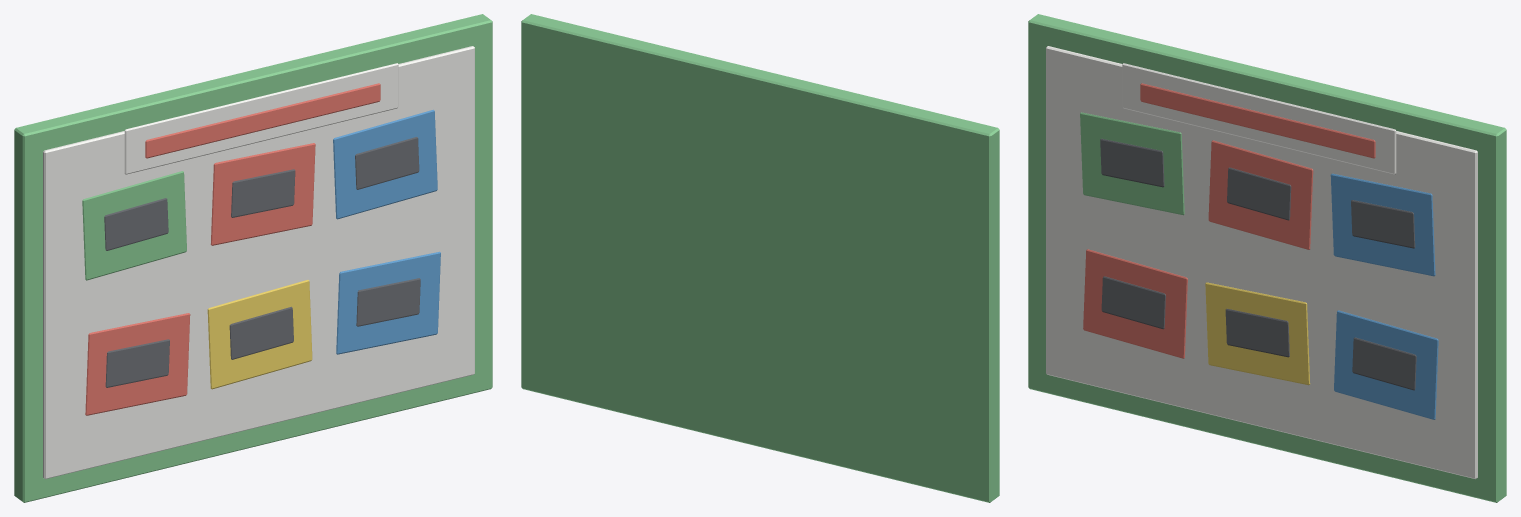
Rendered from nursery-and-primary-classroom-wall-display-board-green-6bb72c44__34999.glb.
The picture shows the model from 3 angles, left to right: view 1: azimuth 30°, elevation 25°; view 2: azimuth 150°, elevation 25°; view 3: azimuth 330°, elevation 25°; orthographic projection.
Parts seen in each view (by area): view 1: wall-display-board-green; view 2: wall-display-board-green; view 3: wall-display-board-green.
Part boxes in pixels (x1,y1,x2,y2): wall-display-board-green: (14, 14, 492, 502); wall-display-board-green: (521, 14, 999, 502); wall-display-board-green: (1028, 14, 1506, 502).
Size of the model in its own units: 1.2 by 0.9 by 0.0665.
